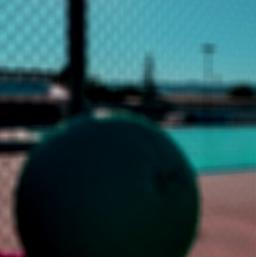algae: (8, 111, 203, 257)
